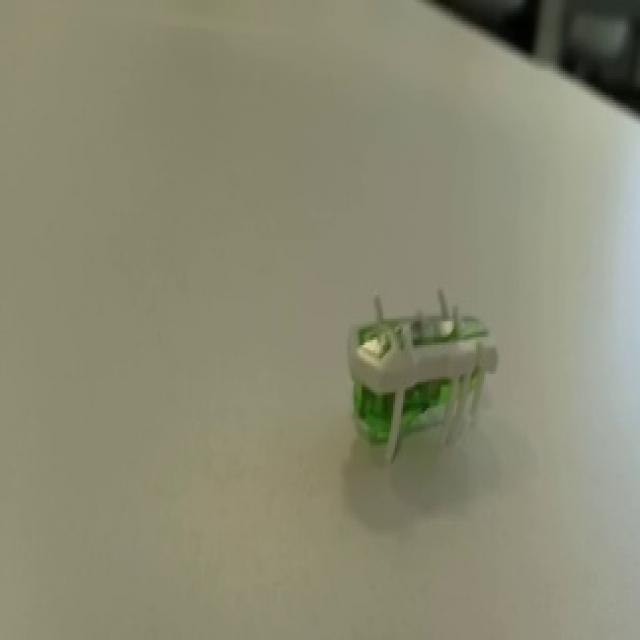4_NanoBug_Blanco: (310, 269, 570, 486)
